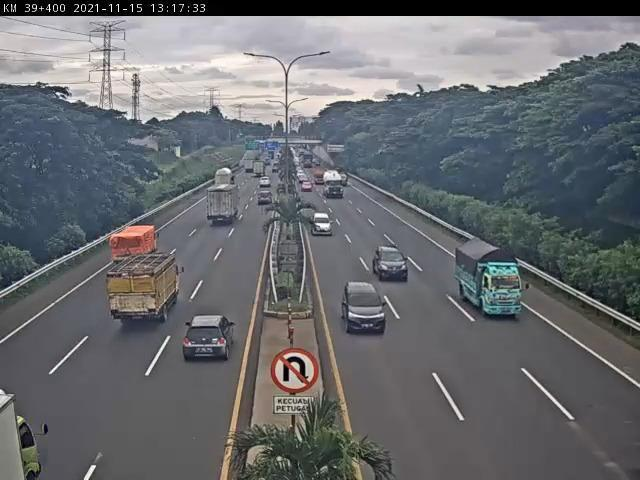car: (183, 312, 236, 364), (341, 283, 387, 336), (372, 245, 410, 282), (311, 210, 331, 232), (257, 189, 275, 209)
truck: (456, 240, 522, 319), (109, 258, 182, 325), (109, 226, 159, 266), (205, 187, 239, 229), (323, 170, 344, 198)
